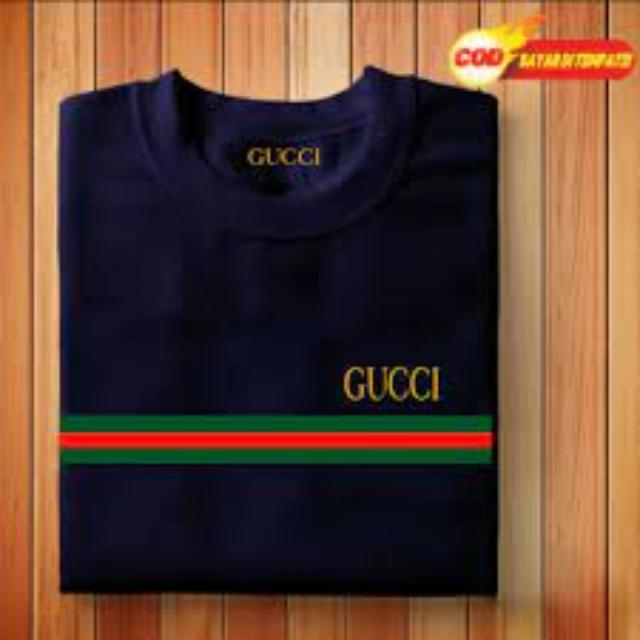Gucci: (332, 355, 454, 413), (241, 130, 329, 180)
